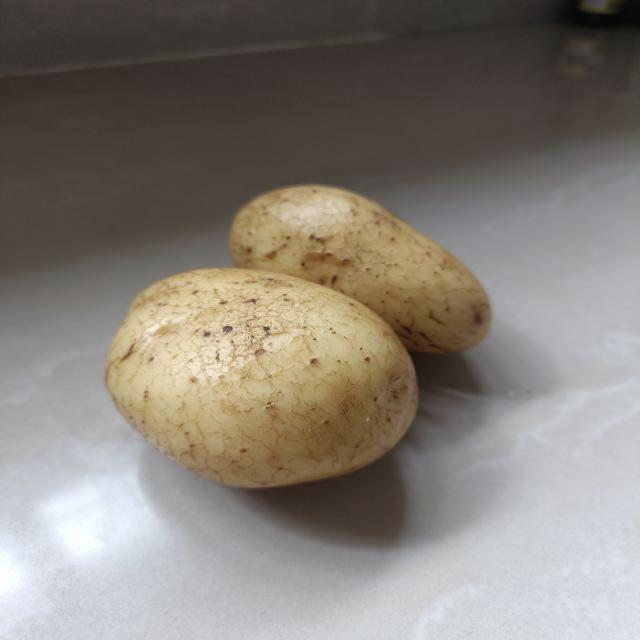potato: (100, 266, 423, 496), (225, 179, 496, 359)
